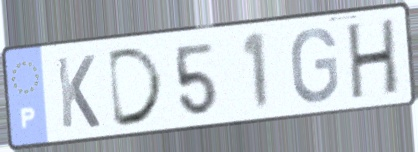1: (239, 28, 270, 116)
5: (171, 38, 222, 117)
D: (105, 43, 168, 131)
G: (289, 25, 341, 106)
H: (346, 14, 401, 103)
K: (53, 53, 103, 132)
